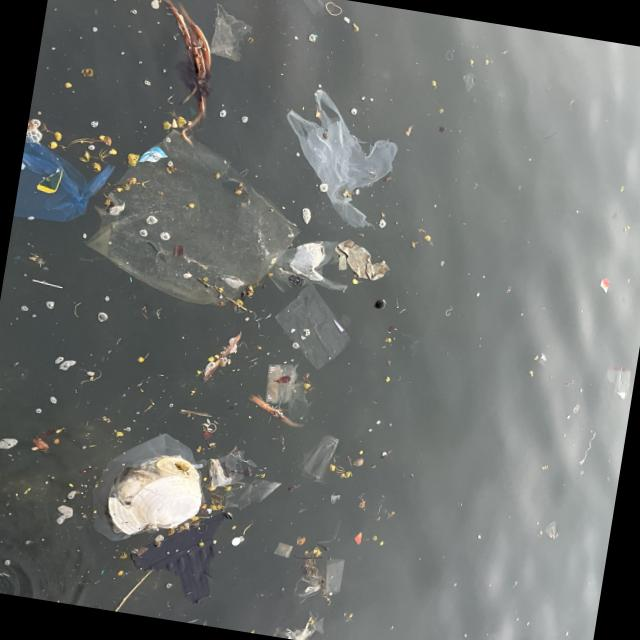foam: (104, 464, 206, 546)
plastic bag: (87, 122, 292, 304), (287, 90, 399, 227), (17, 140, 115, 225), (268, 238, 359, 300)
